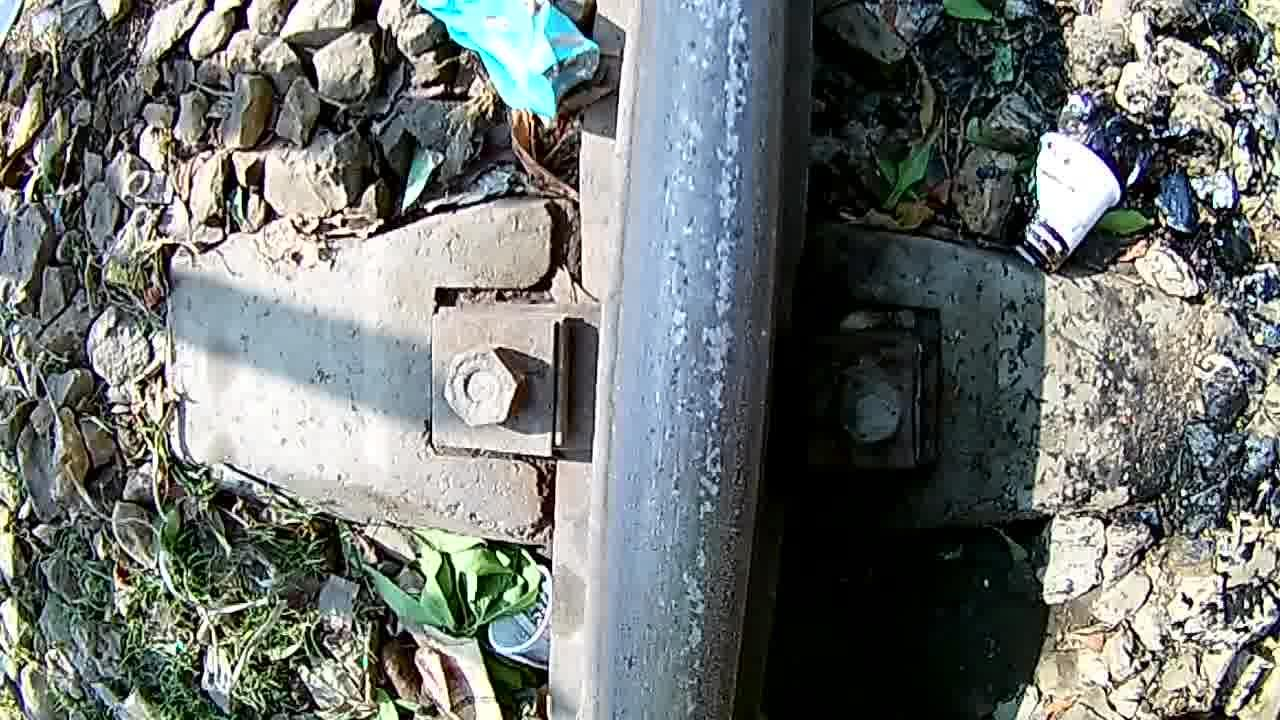clip_missing: (598, 0, 792, 720)
